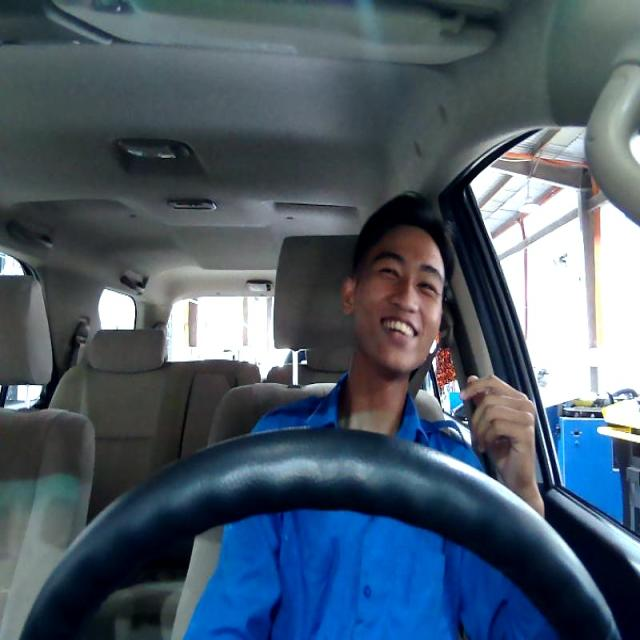focused: (339, 225, 446, 371)
